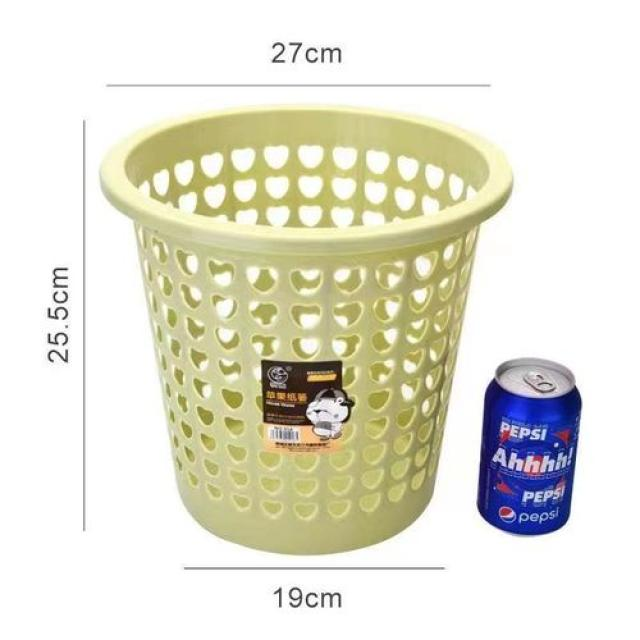dustbin: (92, 99, 519, 564)
